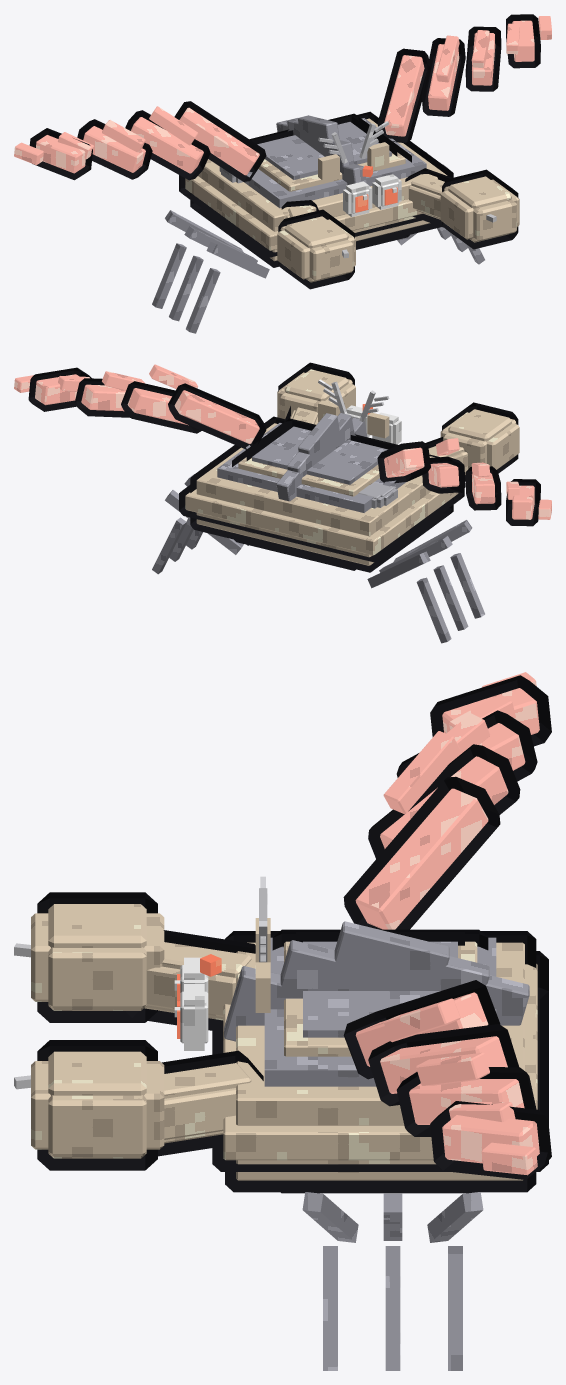
Rendered from guardian_desert.glb.
3 views of the same model, one above another, from view 1: azimuth 30°, elevation 25°; view 2: azimuth 150°, elevation 25°; view 3: azimuth 270°, elevation 25° (orthographic). The views are drawn at different scales.
Visible parts, largest first — view 1: model; view 2: model; view 3: model.
Part boxes in pixels (x1,y1,x2,y2): model: [14, 14, 551, 333]; model: [14, 362, 551, 643]; model: [14, 672, 551, 1370].
Bounding box in the file's own units: 2.76 × 0.9957 × 1.29.
Materials: 9 (8 with a texture image).
